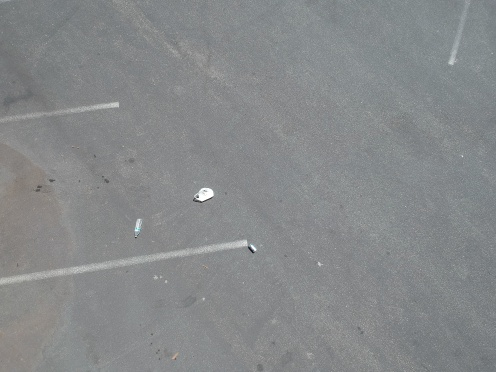bottle: (129, 215, 145, 239)
can: (245, 240, 258, 255)
plastic bag: (192, 184, 216, 203)
